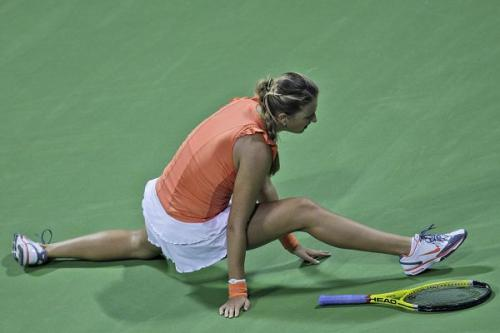fall: (11, 61, 485, 313)
